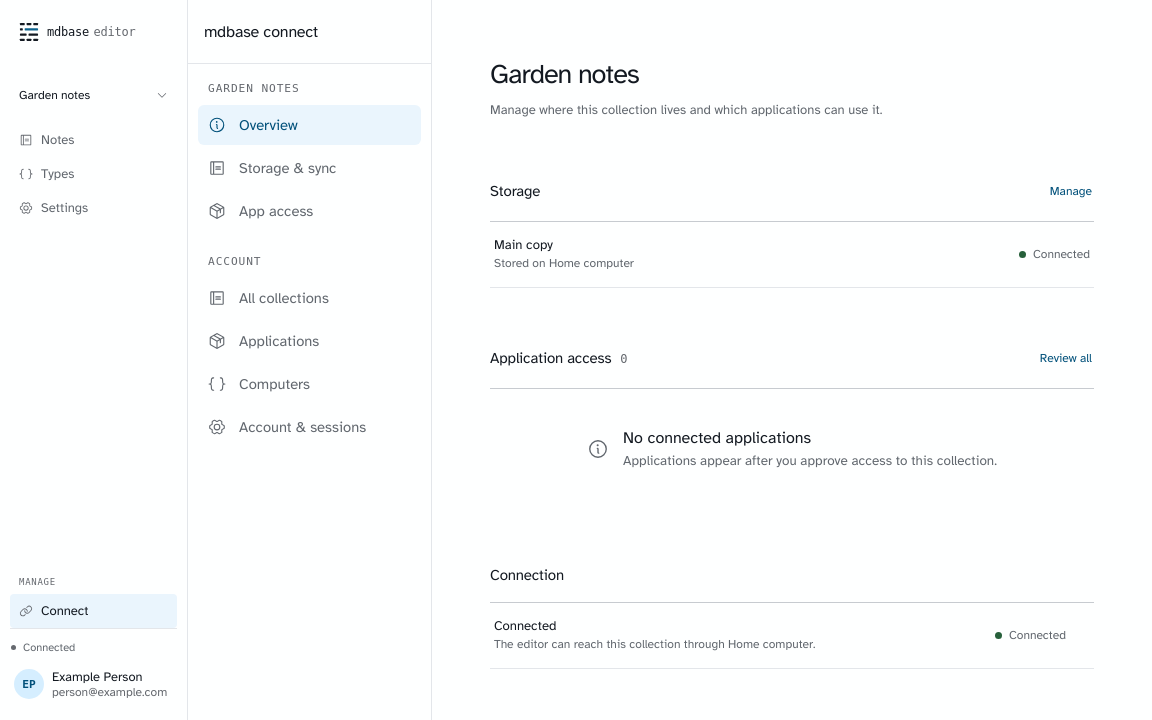
Test: ConnectApp › opens account management without requesting a collection grant
The image size is (1152, 720).
Expected: the heading "Garden notes" is shown, top-left (490, 57), bottom-right (639, 91)
Click the link "Applications" at (264, 341), box top-left (208, 332), bottom-right (319, 350)
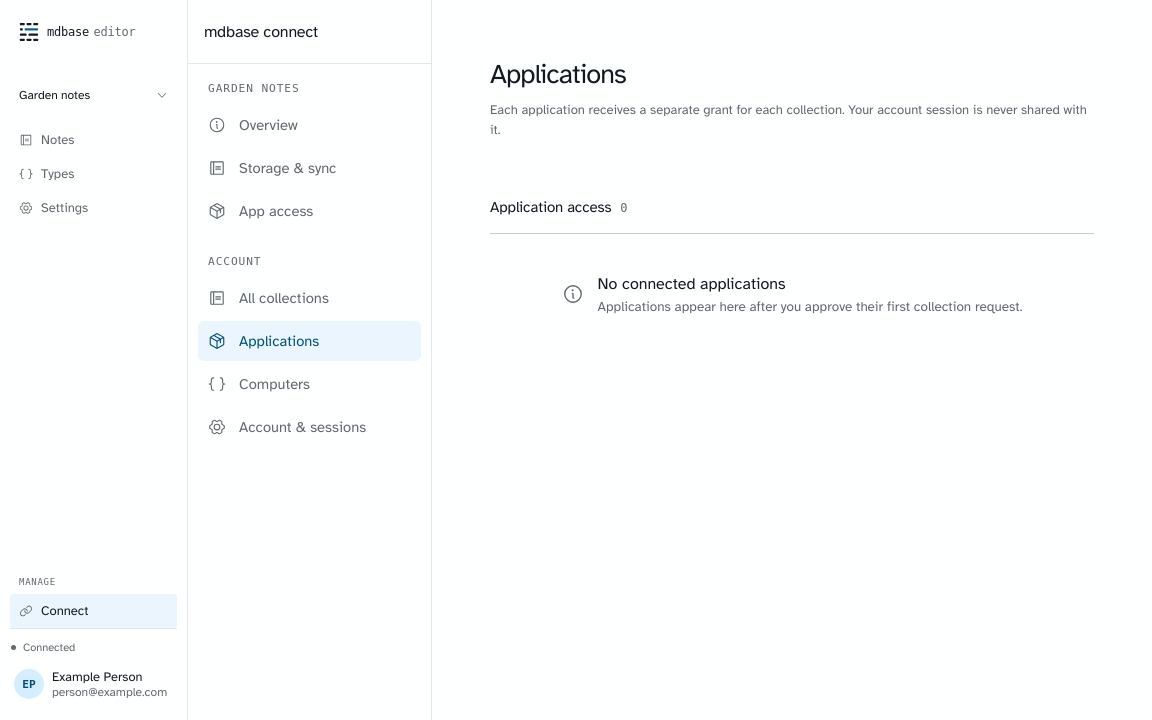
Expected: the heading "Applications" is shown, top-left (490, 57), bottom-right (626, 91)
